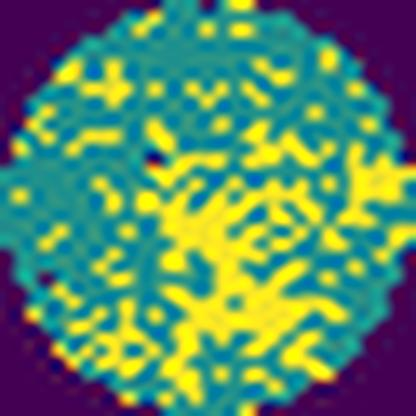Random: (0, 56, 415, 416)
